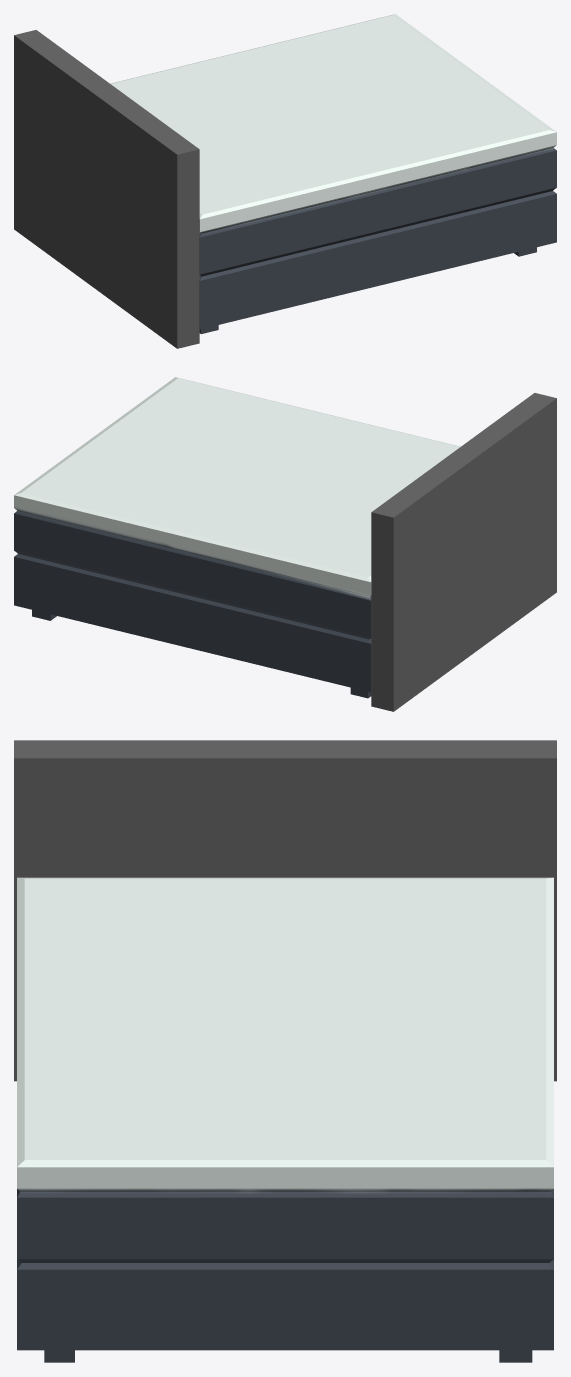
The model's file is Bed.fbx.
3 renders of one model, top to bottom at view 1: azimuth 30°, elevation 25°; view 2: azimuth 150°, elevation 25°; view 3: azimuth 270°, elevation 25°, orthographic. The views are drawn at different scales.
Visible parts, largest first — view 1: Bed, HeadBoard; view 2: Bed, HeadBoard; view 3: Bed, HeadBoard.
Part boxes in pixels (left/top/right/bottom): Bed: left=110, top=14, right=556, bottom=334; HeadBoard: left=14, top=30, right=199, bottom=348; Bed: left=14, top=377, right=460, bottom=698; HeadBoard: left=371, top=393, right=556, bottom=711; Bed: left=17, top=877, right=553, bottom=1362; HeadBoard: left=14, top=740, right=556, bottom=1081.
Bounding box in the file's own units: 711 × 347 × 528.
